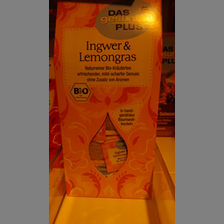tea: (52, 1, 163, 200)
